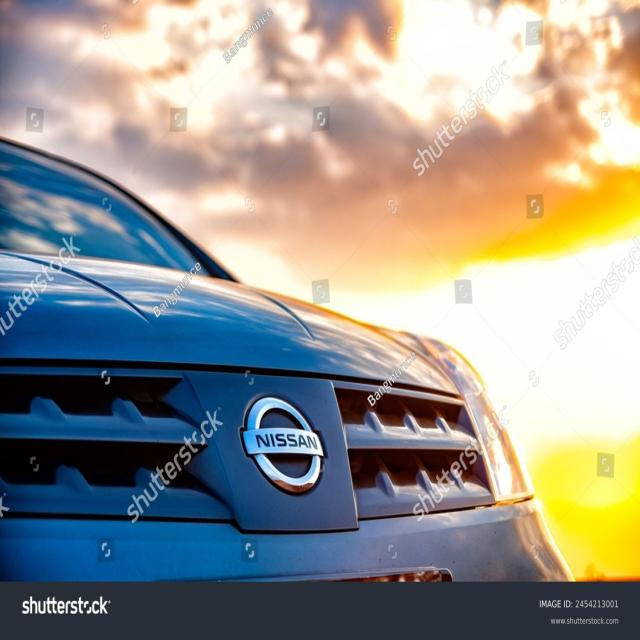nissan: (242, 395, 326, 493)
